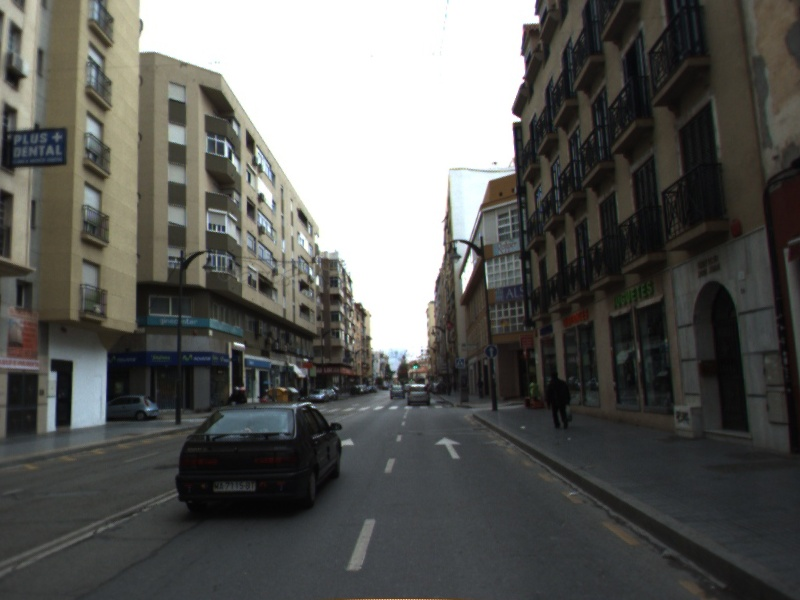STRAIGHT: (433, 434, 464, 461)
